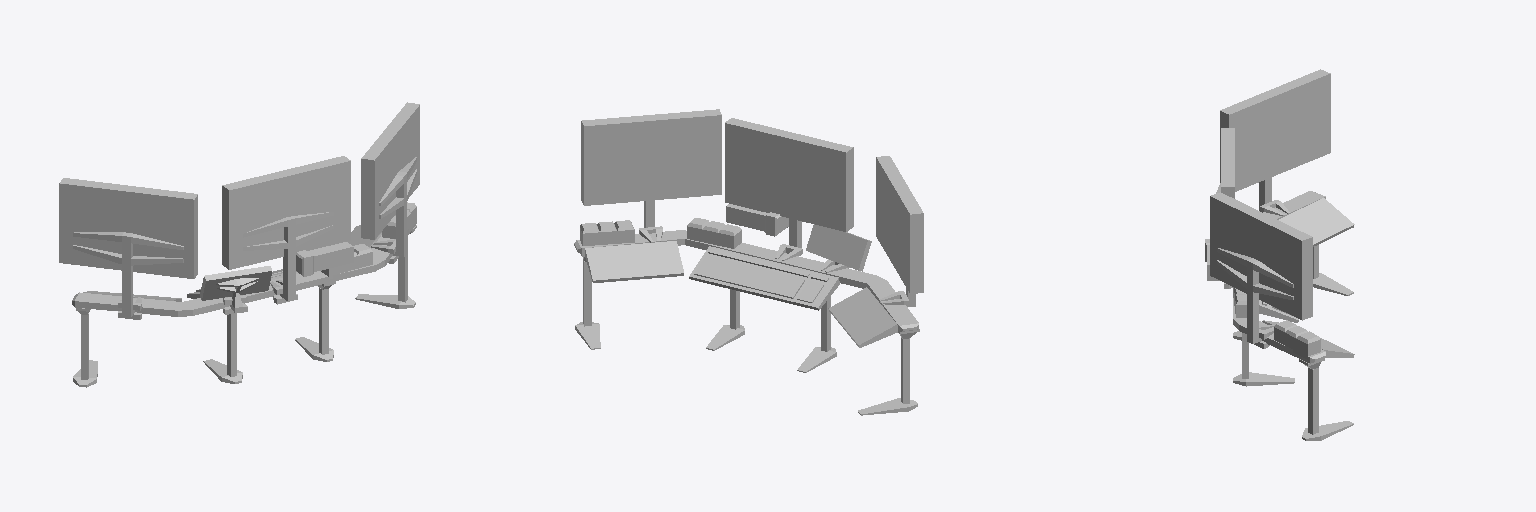
File: computer.obj
3 views of the same model, side by side, from view 1: azimuth 30°, elevation 25°; view 2: azimuth 150°, elevation 25°; view 3: azimuth 270°, elevation 25° (orthographic).
Visible parts, largest first — view 1: monitor, monitor_stand, leg, table, cuboid; view 2: monitor, cuboid, leg, table, monitor_stand; view 3: monitor, cuboid, monitor_stand, leg, table.
Part boxes in pixels (x1,y1,x2,y2): monitor: (59,102,419,300); monitor_stand: (73,157,416,319); leg: (73,225,416,387); table: (72,223,416,316); cuboid: (83,202,416,301); monitor: (581,109,923,293); cuboid: (580,204,897,347); leg: (575,255,919,415); table: (574,230,918,331); monitor_stand: (639,200,915,307); monitor: (1210,69,1330,320); cuboid: (1205,198,1354,359); monitor_stand: (1216,177,1293,348); leg: (1233,245,1353,440); table: (1233,191,1325,363).
Size of the model in its own units: 1.45 by 0.79 by 0.5309.